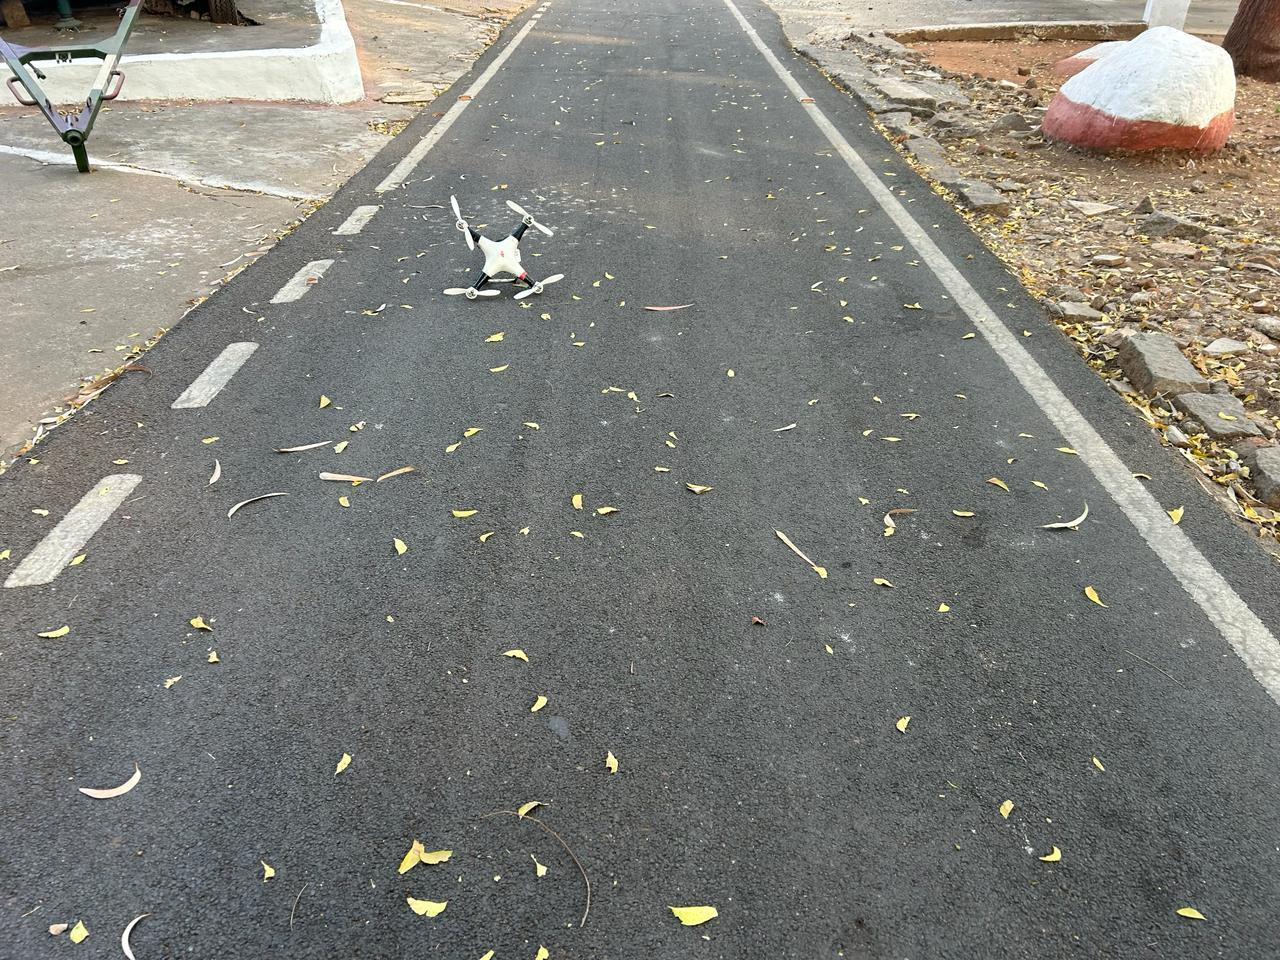drone: (394, 166, 630, 345)
